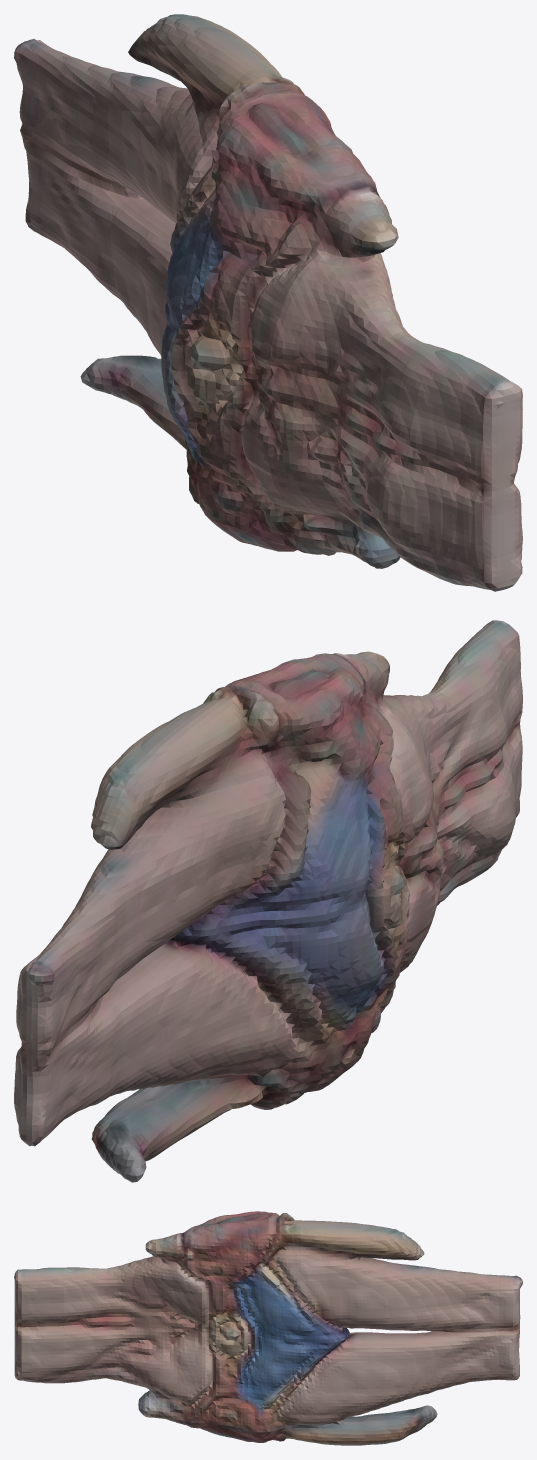
The picture shows the model from 3 angles, top to bottom: view 1: azimuth 30°, elevation 25°; view 2: azimuth 150°, elevation 25°; view 3: azimuth 270°, elevation 25°; orthographic projection. The views are drawn at different scales.
Visible parts, largest first — view 1: world; view 2: world; view 3: world.
Part boxes in pixels (left/top/right/bottom): world: left=14, top=14, right=522, bottom=591; world: left=14, top=620, right=522, bottom=1182; world: left=14, top=1211, right=522, bottom=1445.
Size of the model in its own units: 0.212 by 0.4759 by 0.9824.
